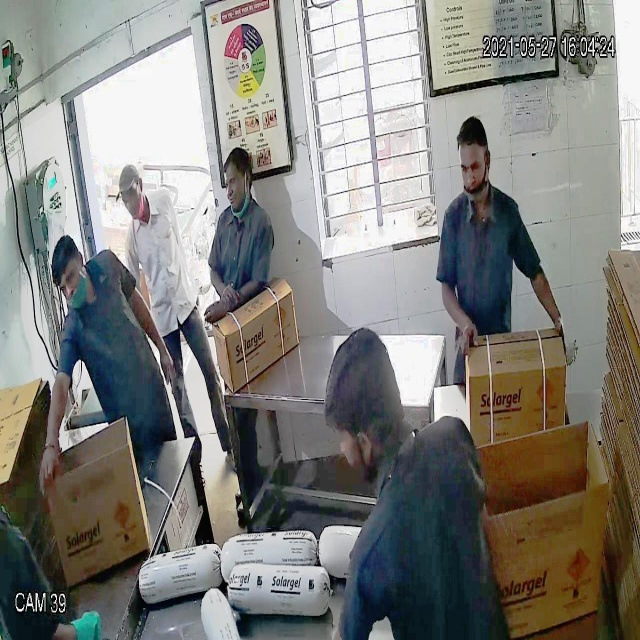Sin_gafas: (454, 150, 493, 181), (53, 261, 86, 295)
